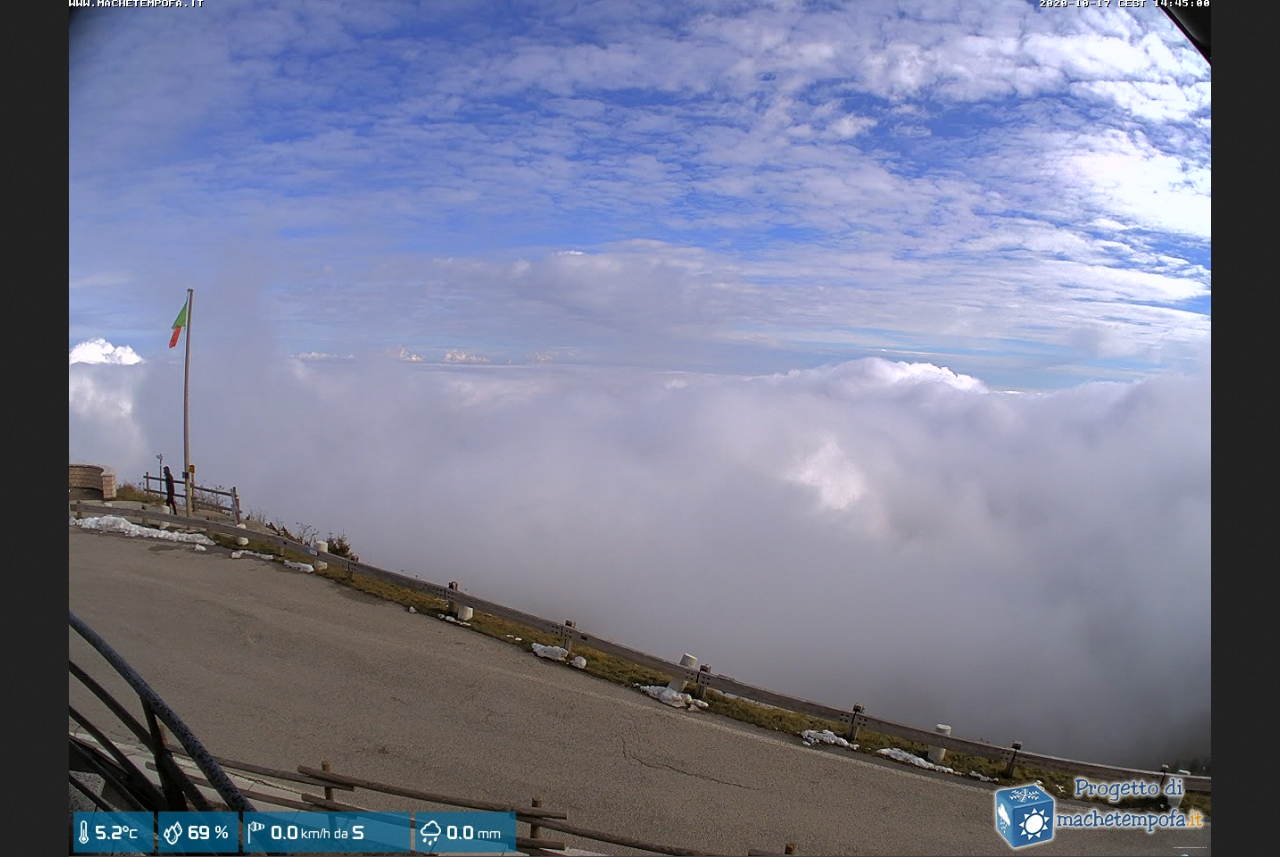maybe: (169, 298, 188, 350)
